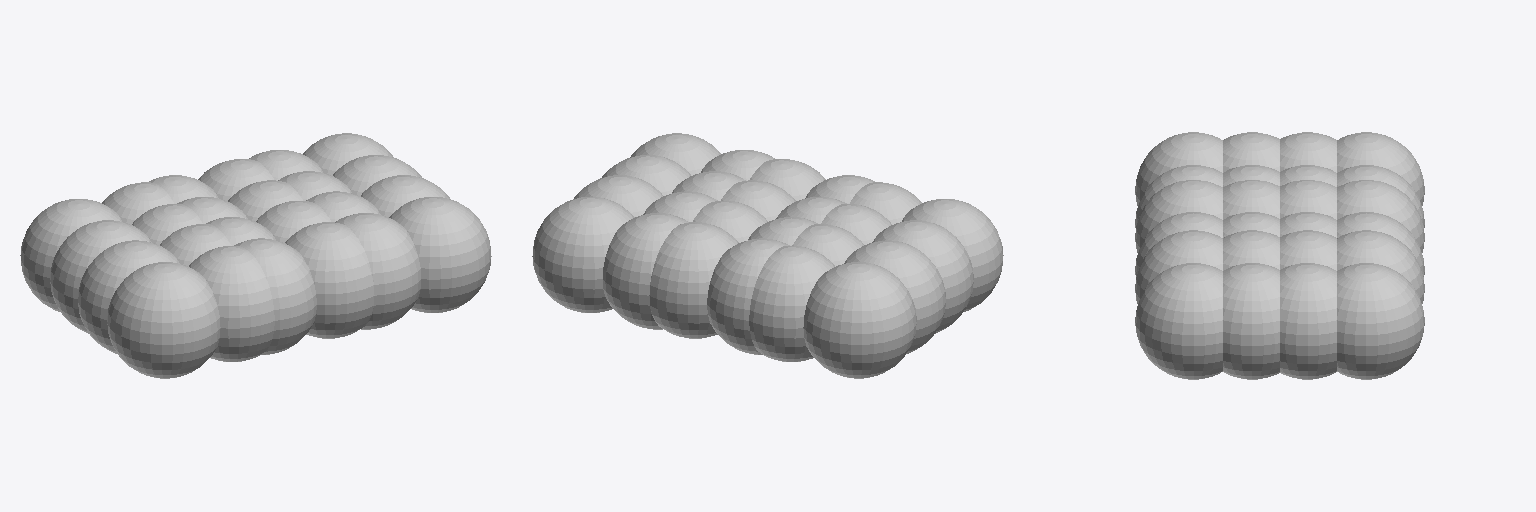
File: stresstest.obj
3 views of the same model, side by side, from view 1: azimuth 30°, elevation 25°; view 2: azimuth 150°, elevation 25°; view 3: azimuth 270°, elevation 25° (orthographic).
Parts seen in each view (by area): view 1: Sphere.002_Sphere.003; view 2: Sphere.002_Sphere.003; view 3: Sphere.002_Sphere.003.
Part boxes in pixels (x1,y1,x2,y2): Sphere.002_Sphere.003: (20, 133, 491, 378); Sphere.002_Sphere.003: (532, 133, 1003, 378); Sphere.002_Sphere.003: (1135, 132, 1424, 379).
Size of the model in its own units: 7.29 by 2 by 4.96.